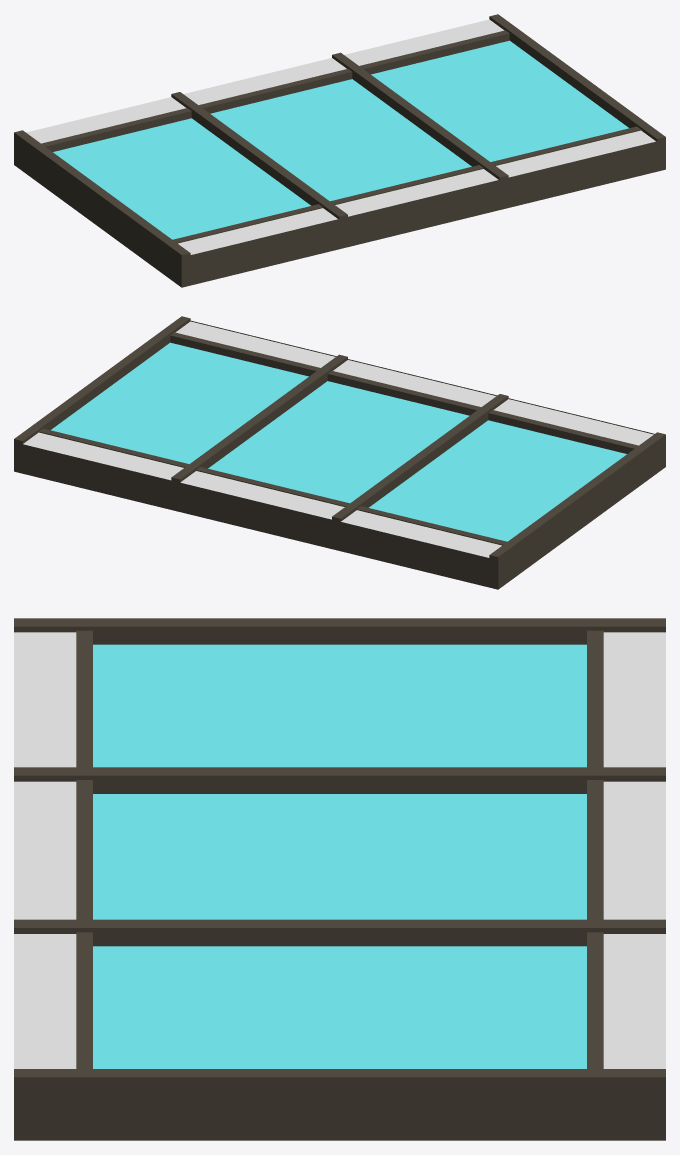
Rendered from P_F_OLDType1.fbx.
3 views of the same model, one above another, from view 1: azimuth 30°, elevation 25°; view 2: azimuth 150°, elevation 25°; view 3: azimuth 270°, elevation 25° (orthographic). The views are drawn at different scales.
Parts seen in each view (by area): view 1: P_F_OLDType1; view 2: P_F_OLDType1; view 3: P_F_OLDType1.
Part boxes in pixels (x1,y1,x2,y2): P_F_OLDType1: (14,14,665,287); P_F_OLDType1: (14,316,665,589); P_F_OLDType1: (14,618,665,1140).
Size of the model in its own units: 500 by 32.17 by 300.
